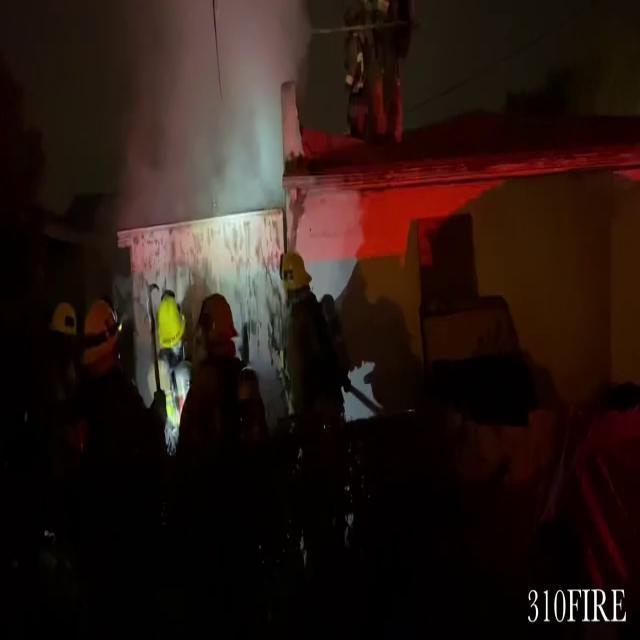Smoke: (100, 0, 308, 241)
